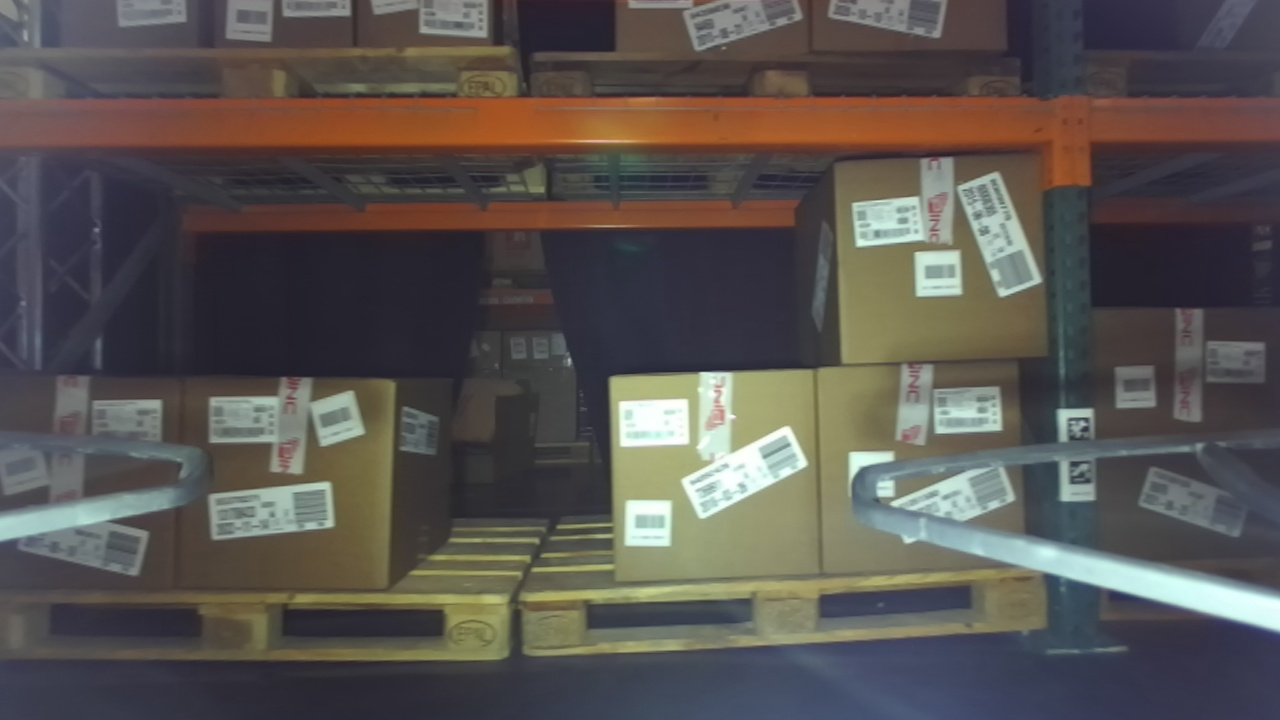box: (167, 353, 415, 609), (598, 352, 839, 600), (799, 354, 1047, 592), (813, 148, 1057, 380), (2, 353, 204, 608)
